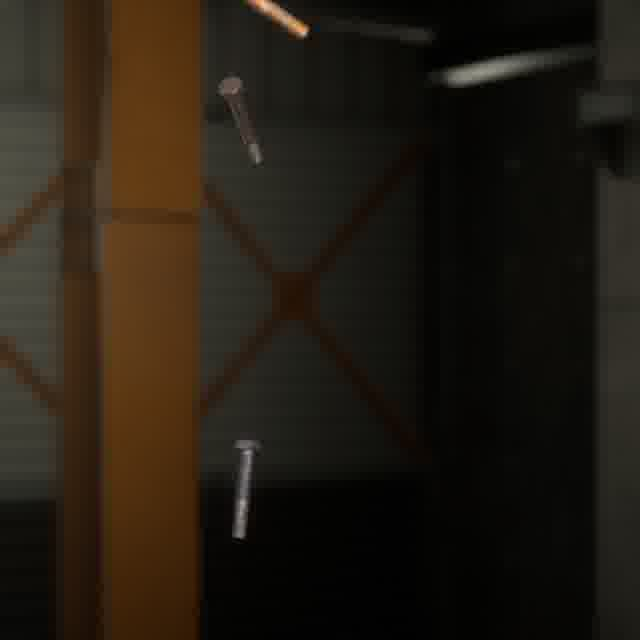bolt: (213, 71, 267, 168), (227, 434, 265, 543), (236, 0, 313, 44)
